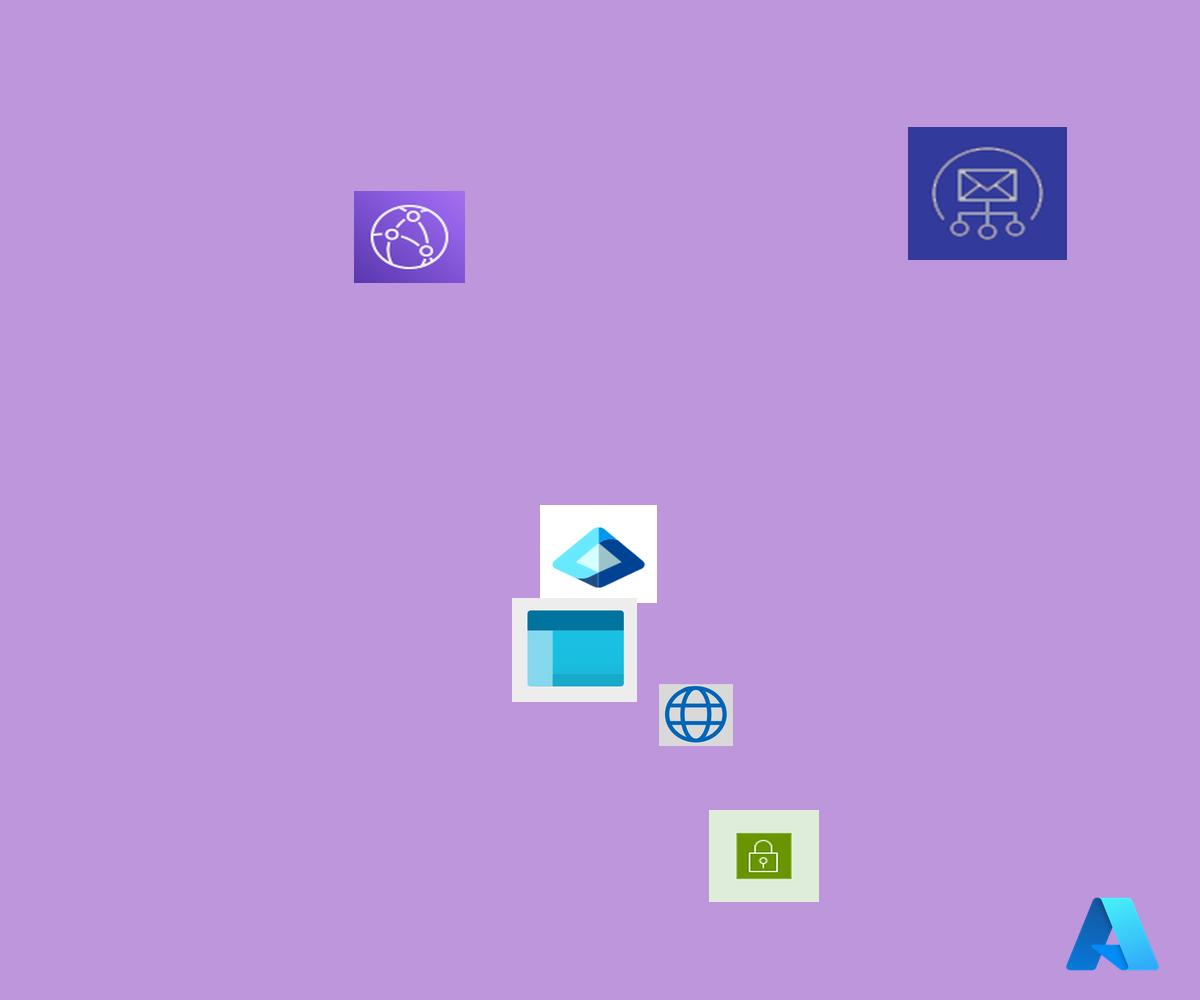AWS-CloudFront: (354, 191, 465, 283)
AWS-Public-subnet: (709, 810, 819, 902)
AWS-Simple-Email-Service: (908, 127, 1067, 260)
Azure_http: (659, 684, 733, 746)
Azure_management-portal: (512, 598, 637, 702)
Azure_microsoft_entra: (540, 505, 657, 603)
Azure_services: (1062, 892, 1163, 976)
